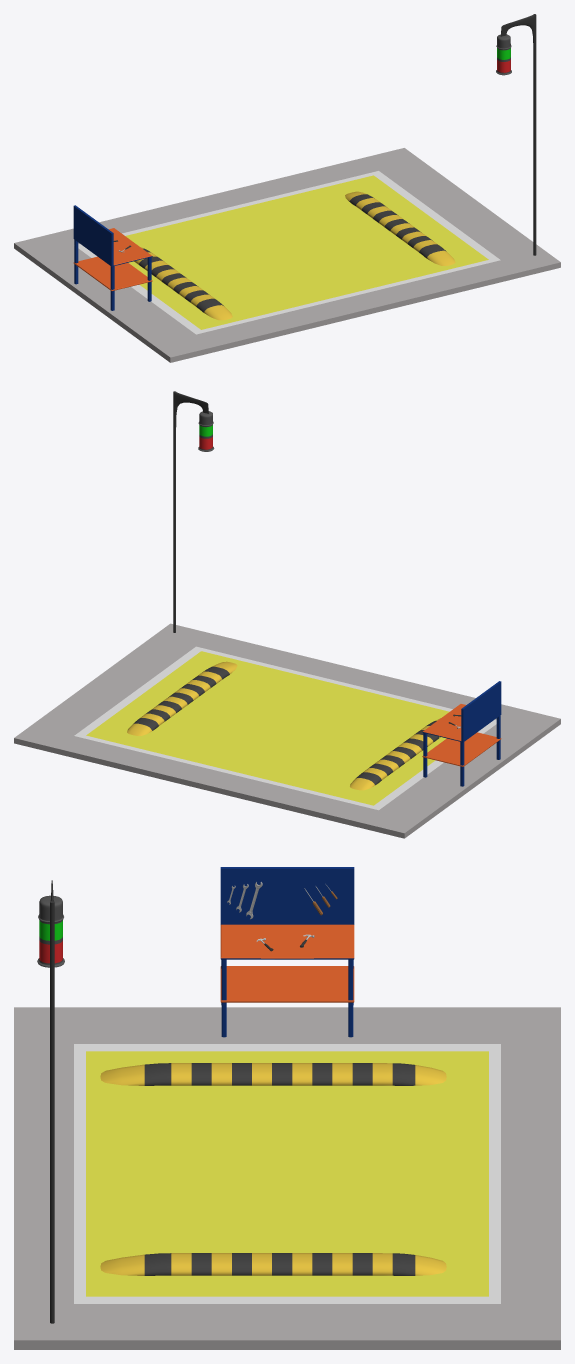
File: CarPlace.fbx
3 views of the same model, one above another, from view 1: azimuth 30°, elevation 25°; view 2: azimuth 150°, elevation 25°; view 3: azimuth 270°, elevation 25° (orthographic). The views are drawn at different scales.
Parts seen in each view (by area): view 1: CarPlace; view 2: CarPlace; view 3: CarPlace.
Part boxes in pixels (x1=…): CarPlace: x1=14, y1=14, x2=560, y2=362; CarPlace: x1=14, y1=391, x2=560, y2=838; CarPlace: x1=14, y1=867, x2=560, y2=1349.
Size of the model in its own units: 1179 by 718 by 818.
